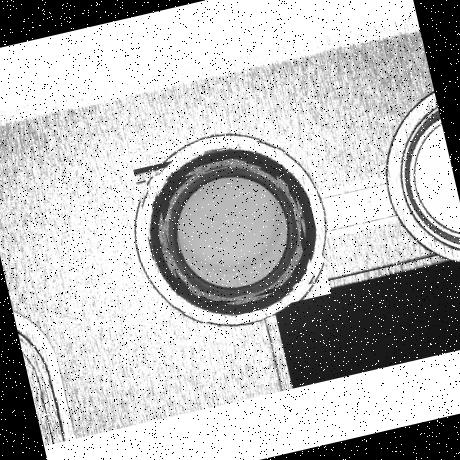Hole: (131, 131, 330, 330)
Hole2: (145, 146, 315, 314)
Hole3: (154, 153, 308, 308)
Hole4: (166, 164, 298, 297)
